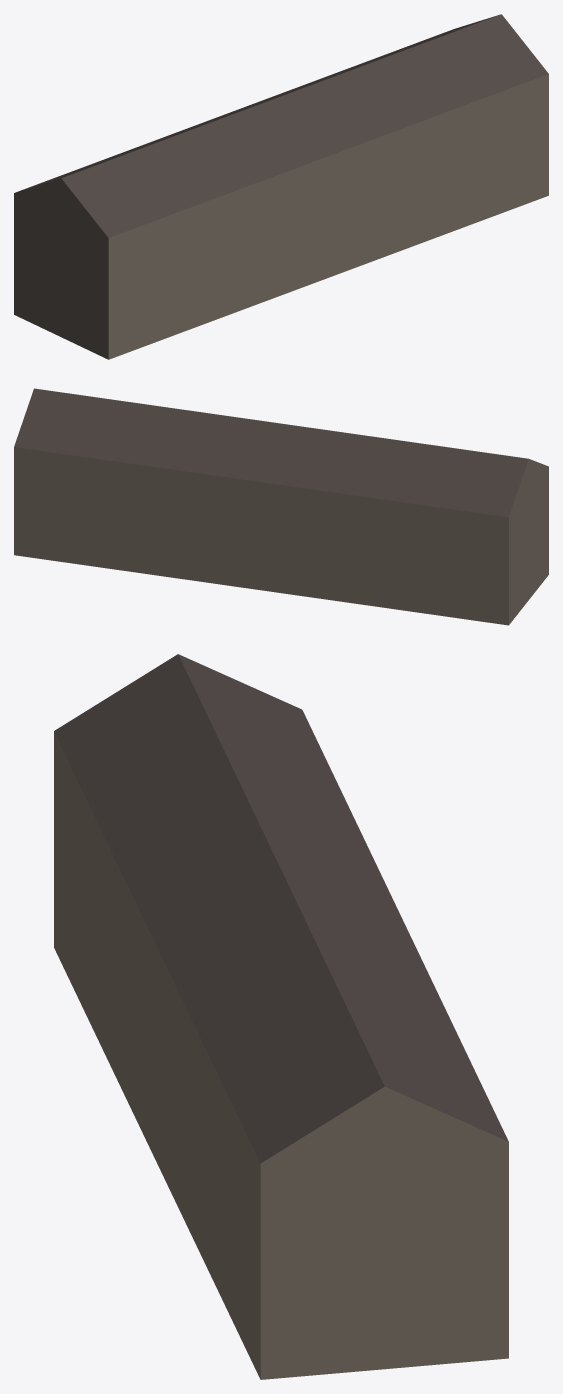
The picture shows the model from 3 angles, top to bottom: view 1: azimuth 30°, elevation 25°; view 2: azimuth 150°, elevation 25°; view 3: azimuth 270°, elevation 25°; orthographic projection. The views are drawn at different scales.
Parts seen in each view (by area): view 1: HP-w859488898; view 2: HP-w859488898; view 3: HP-w859488898.
Part boxes in pixels (box(x1,y1,x2,y2)): HP-w859488898: box(14, 14, 548, 359); HP-w859488898: box(14, 388, 548, 625); HP-w859488898: box(54, 654, 508, 1379).
Bounding box in the file's own units: 40.51 × 11.76 × 17.16.
